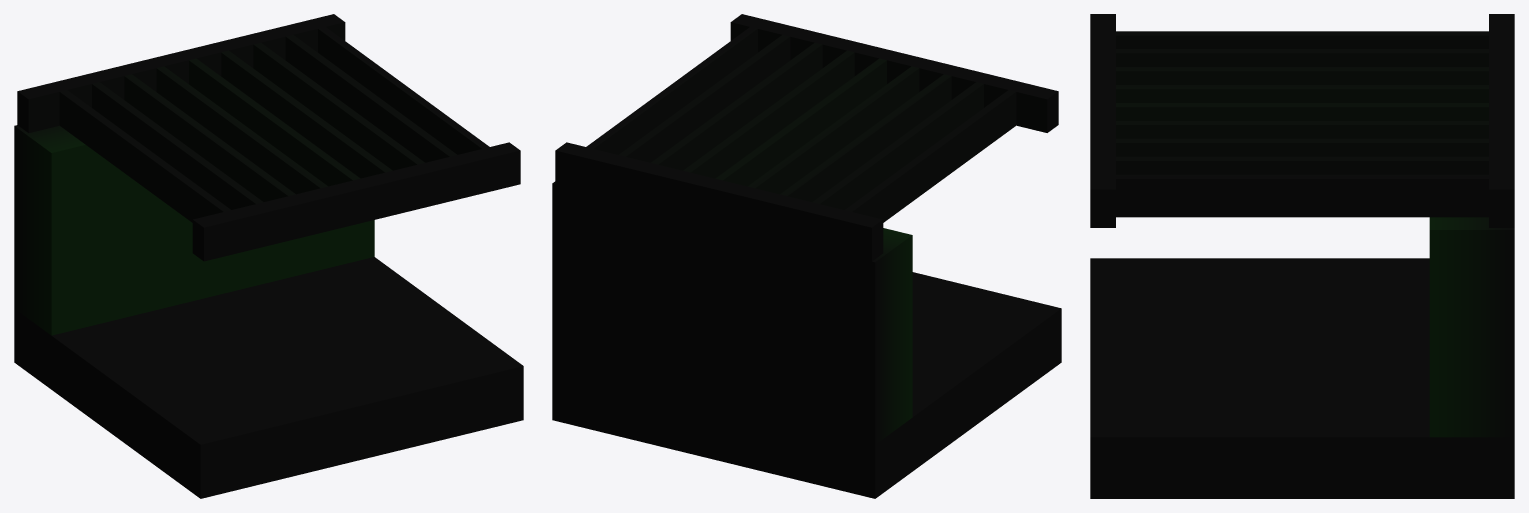
The model's file is muong_junction.glb.
3 renders of one model, left to right at view 1: azimuth 30°, elevation 25°; view 2: azimuth 150°, elevation 25°; view 3: azimuth 270°, elevation 25°, orthographic. The views are drawn at different scales.
Parts seen in each view (by area): view 1: muong_junction; view 2: muong_junction; view 3: muong_junction.
Part boxes in pixels (x1=…): muong_junction: x1=14, y1=14, x2=523, y2=498; muong_junction: x1=552, y1=14, x2=1061, y2=498; muong_junction: x1=1090, y1=14, x2=1514, y2=498.
Bounding box in the file's own units: 0.5 × 0.4 × 0.5.
